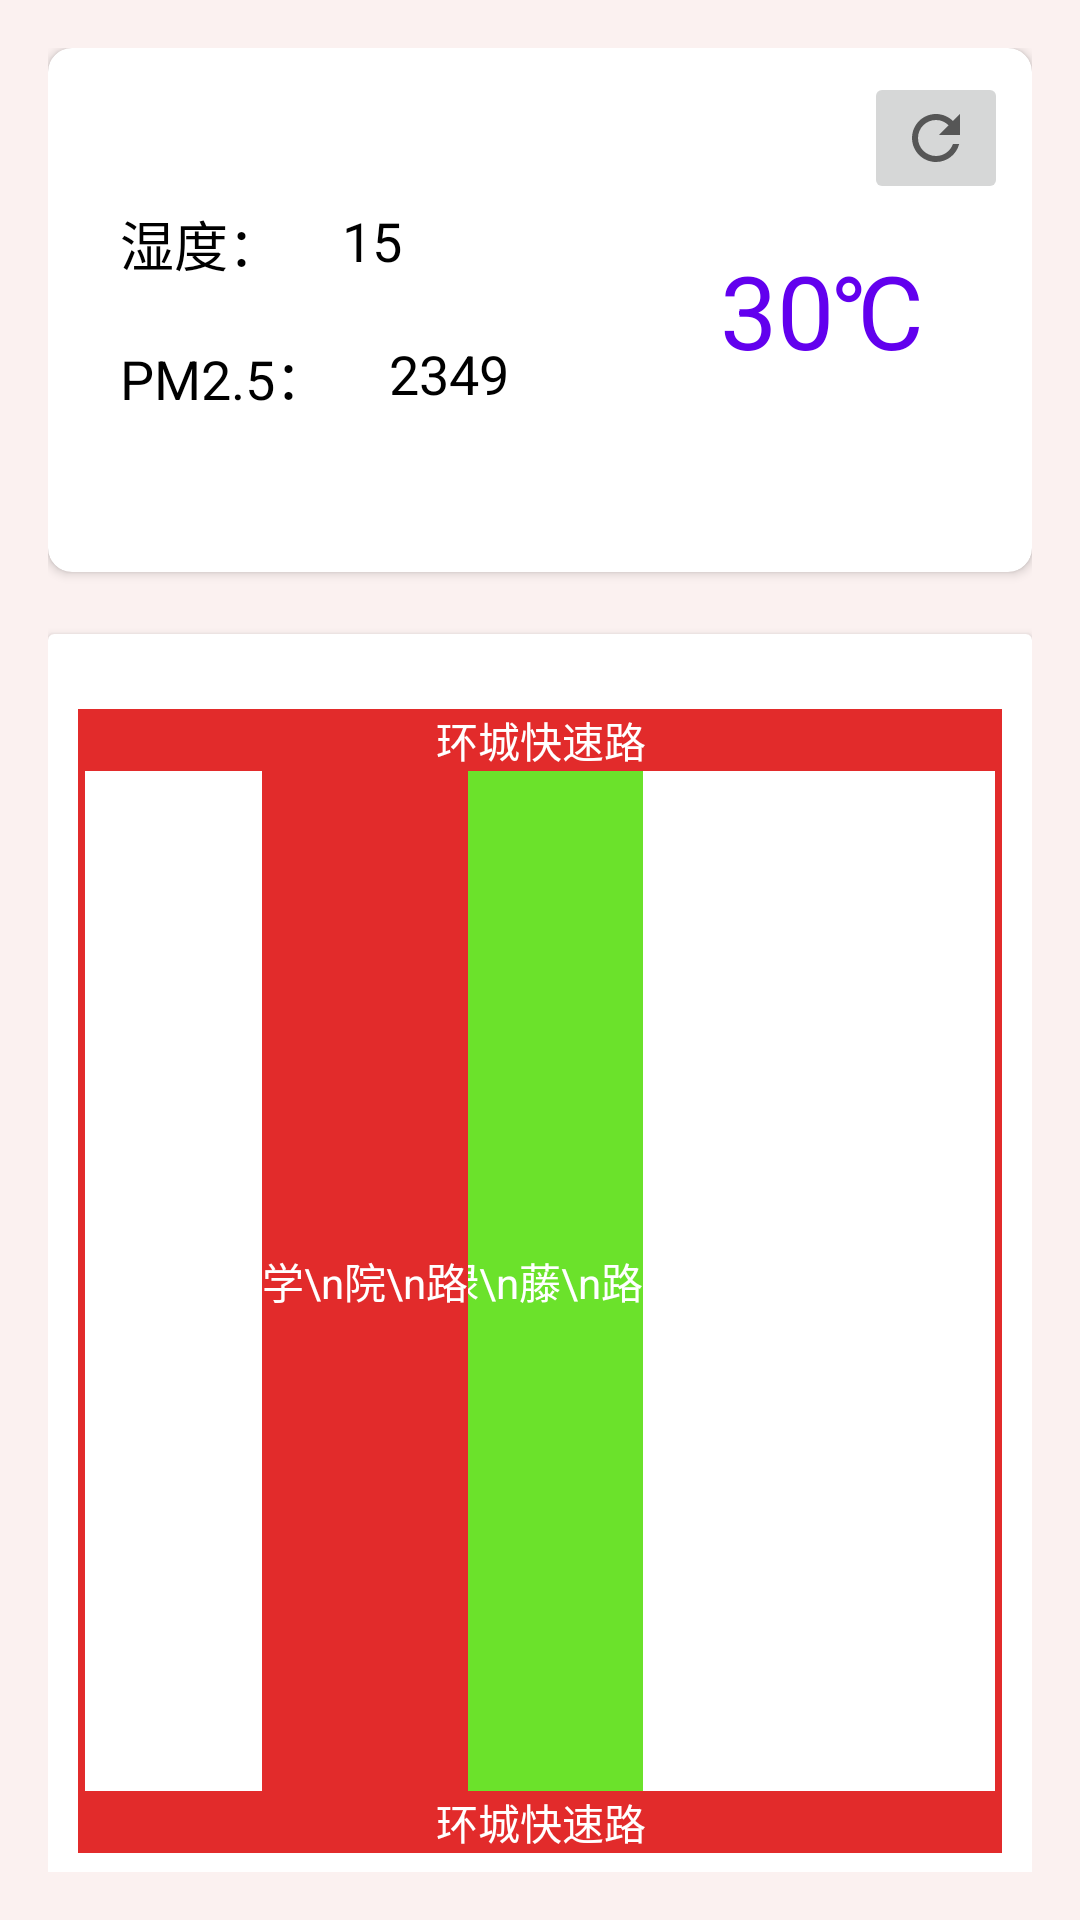

Icon click points for this 1080x1920 phone screenshot, format [x,y]:
refresh: [936,138]
